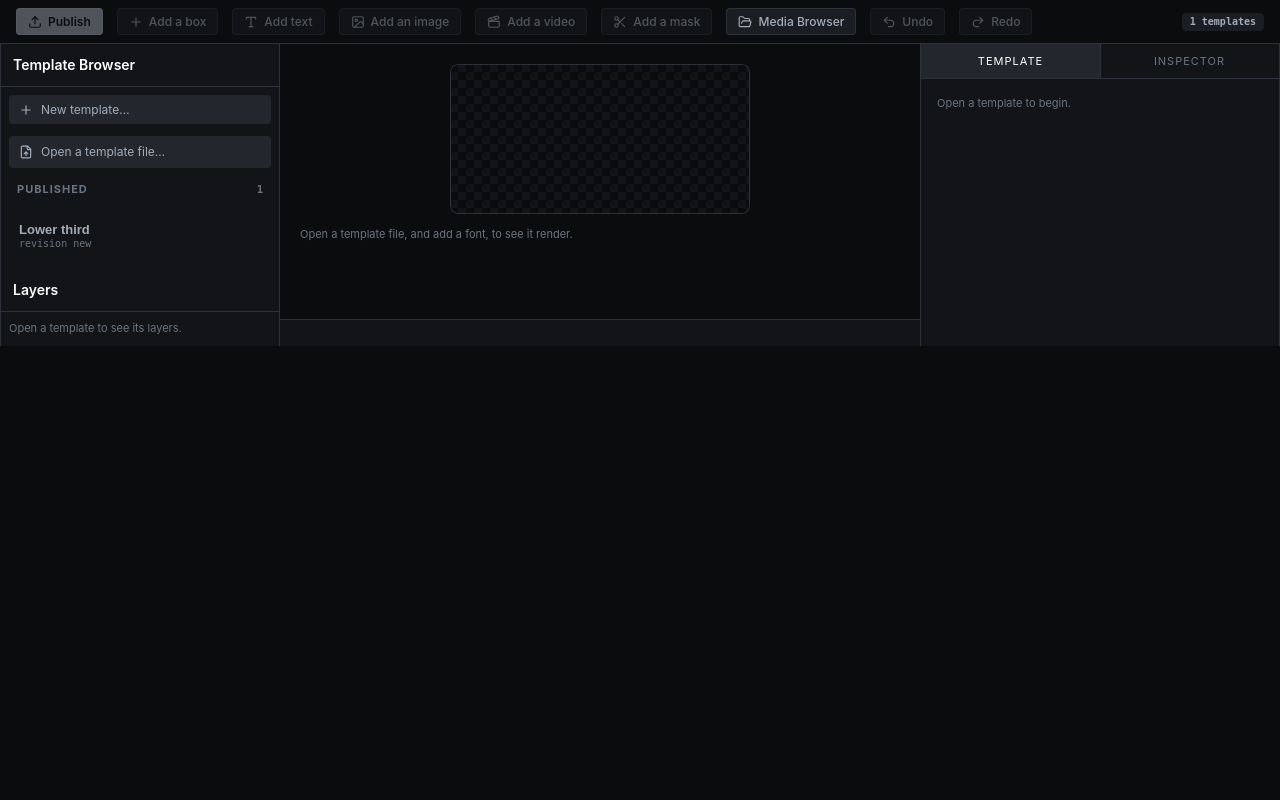
it: the element menu › Cut copies then deletes; the root refuses the destructive verbs
The image size is (1280, 800).
Click the text "Lower third": click(54, 230) [19,222,90,237]
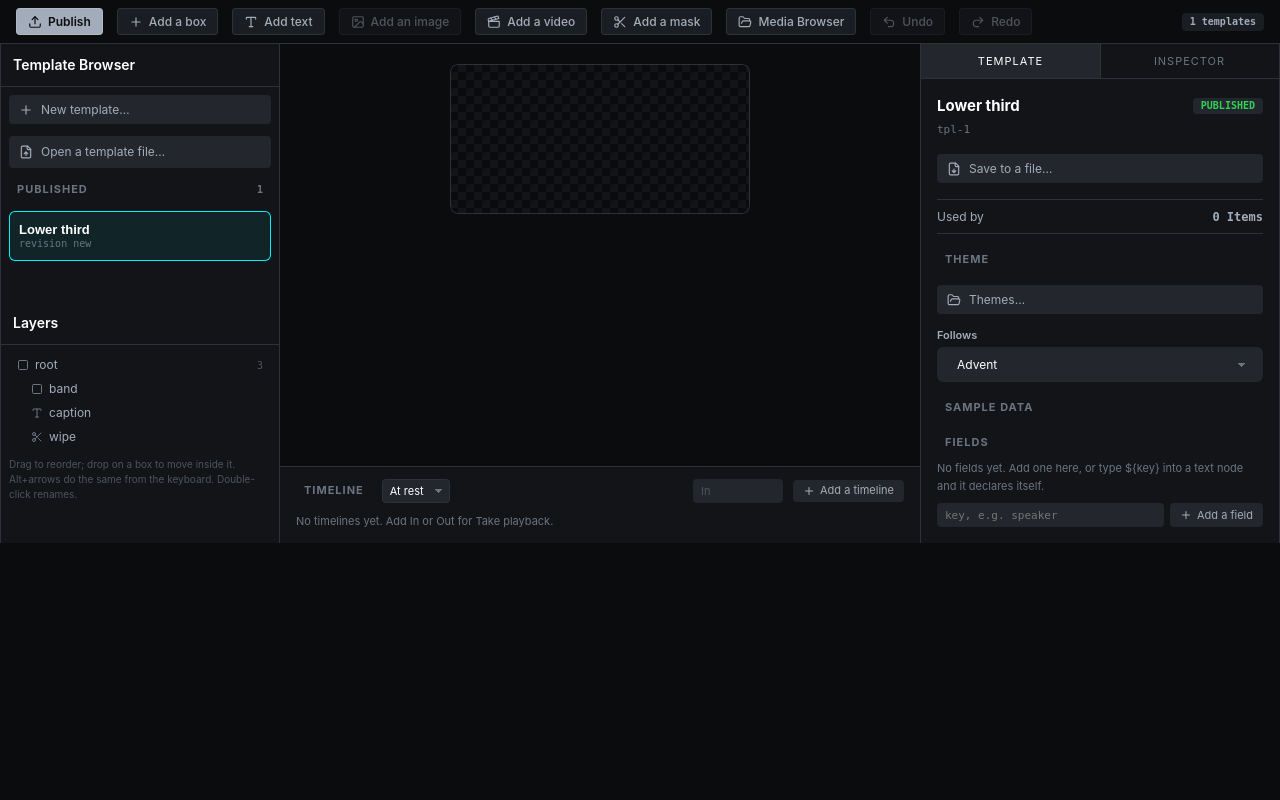
Right-click the list item "band": (54, 389) [31,381,78,396]
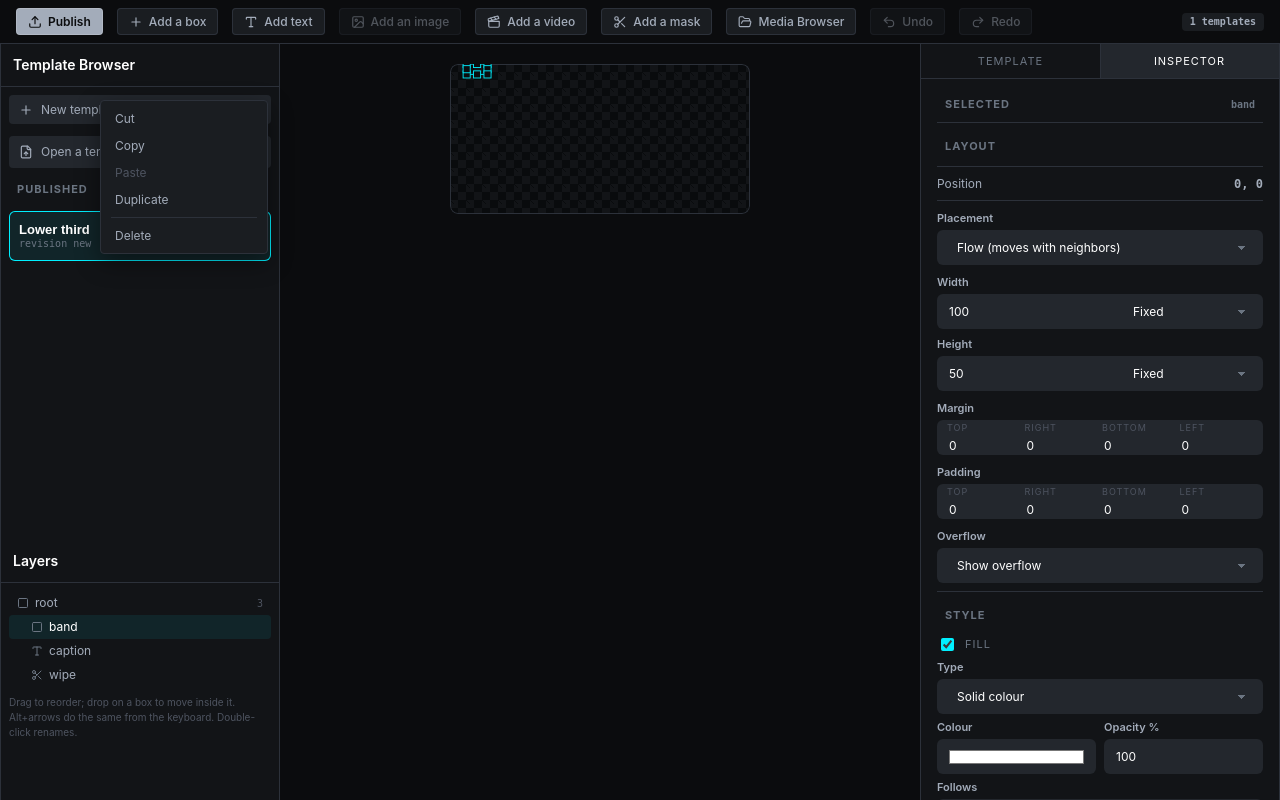
Click the menu item "Cut": click(184, 118) [105,105,263,132]
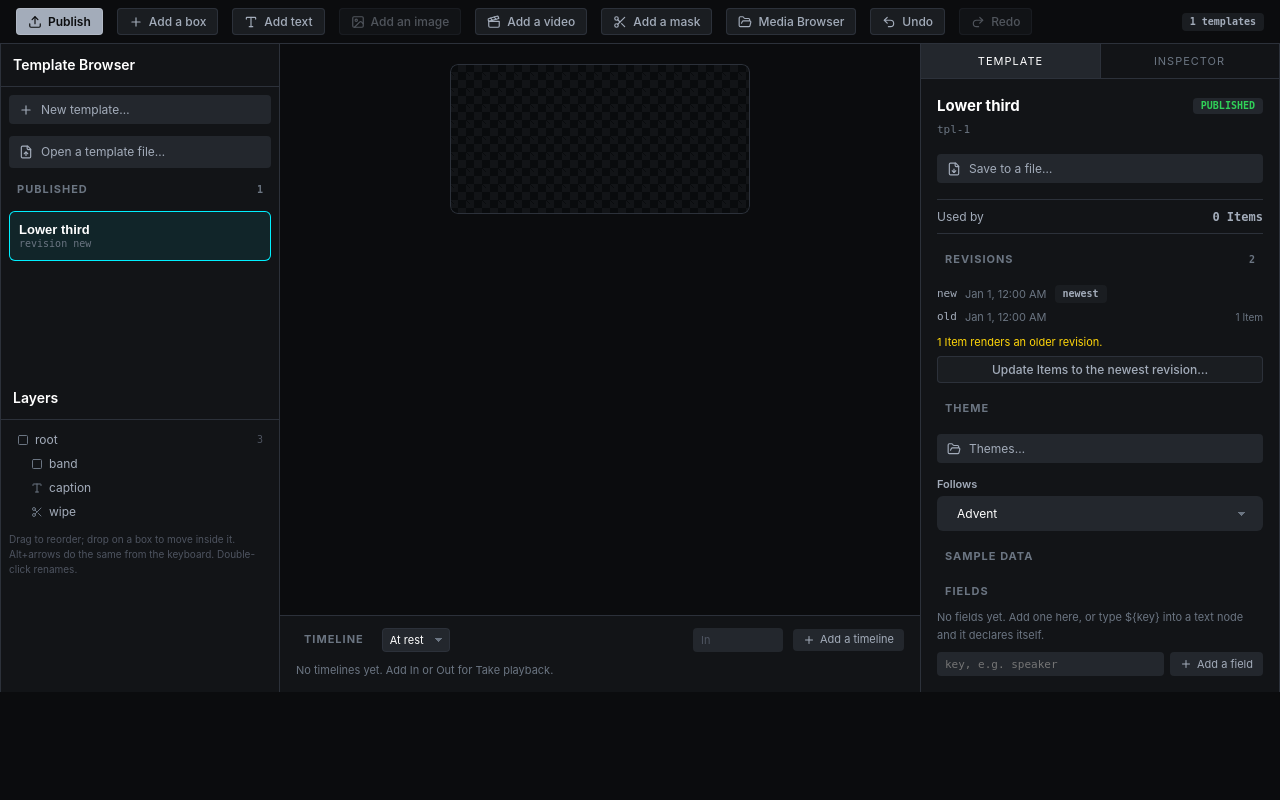
Right-click the list item "root 3": (23, 440) [9,428,271,452]
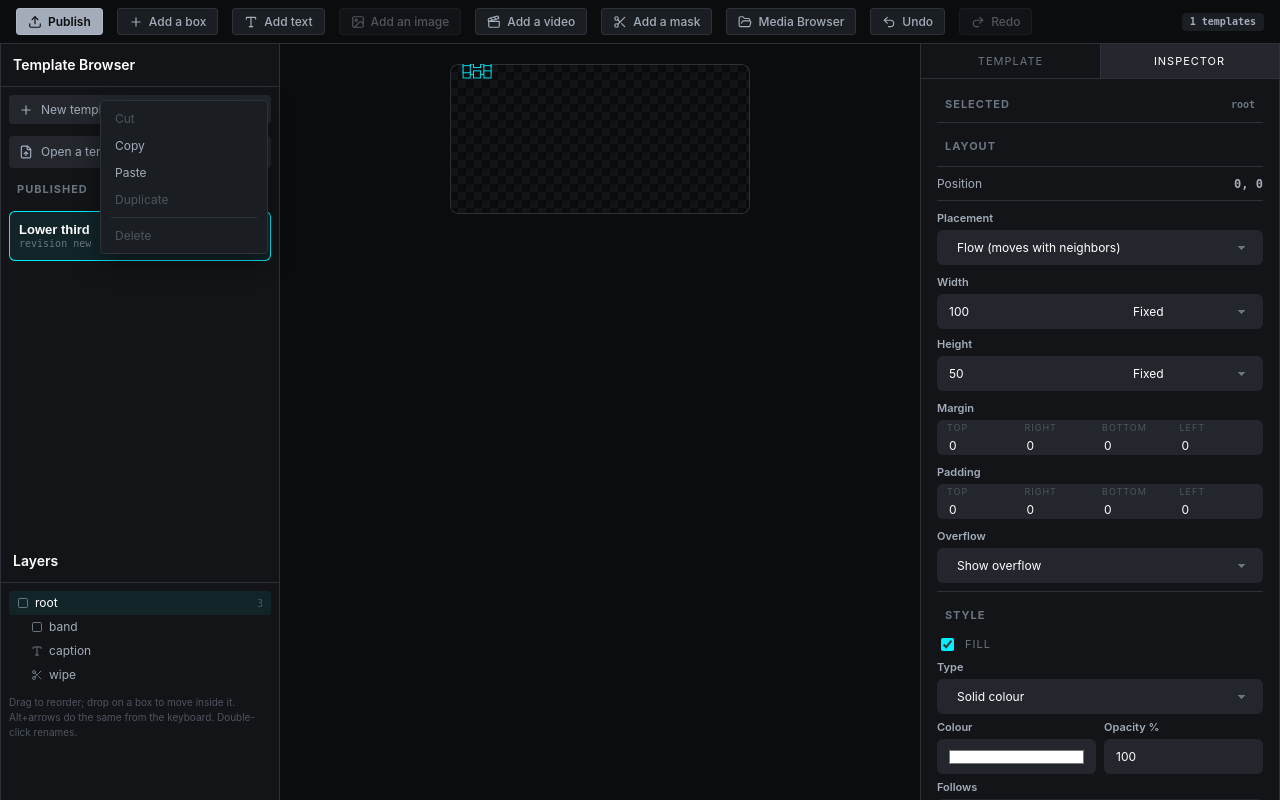
Now the menu item "Cut" is disabled, box [105,105,263,132]
Now the menu item "Duplicate" is disabled, box [105,186,263,213]
Now the menu item "Delete" is disabled, box [105,222,263,249]
